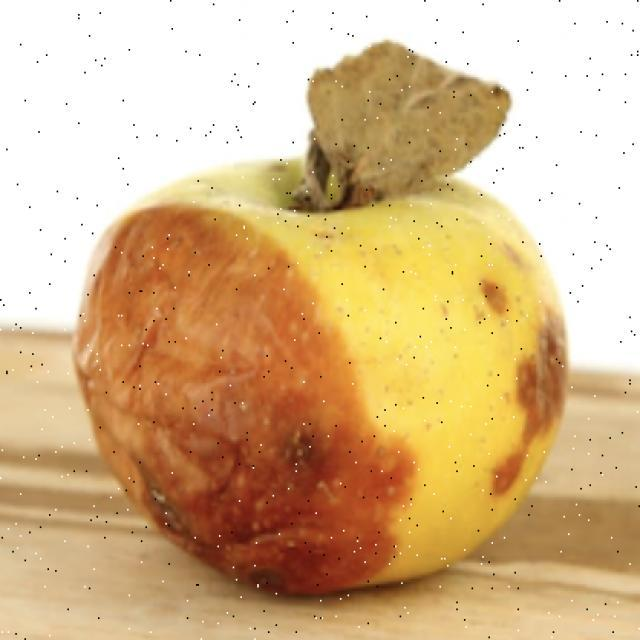Rotten: (87, 148, 565, 590)
